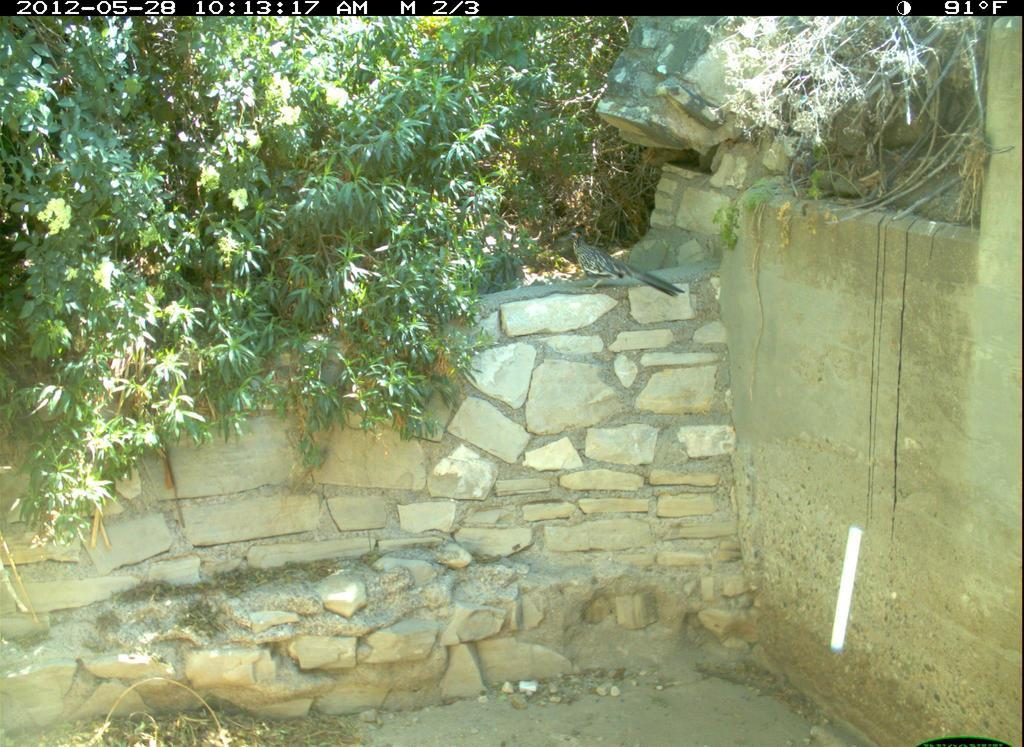bird: (553, 217, 694, 317)
